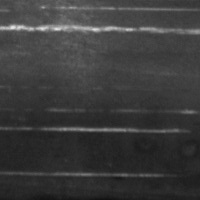scratches: (1, 20, 199, 37), (0, 121, 185, 138), (0, 168, 177, 180)
